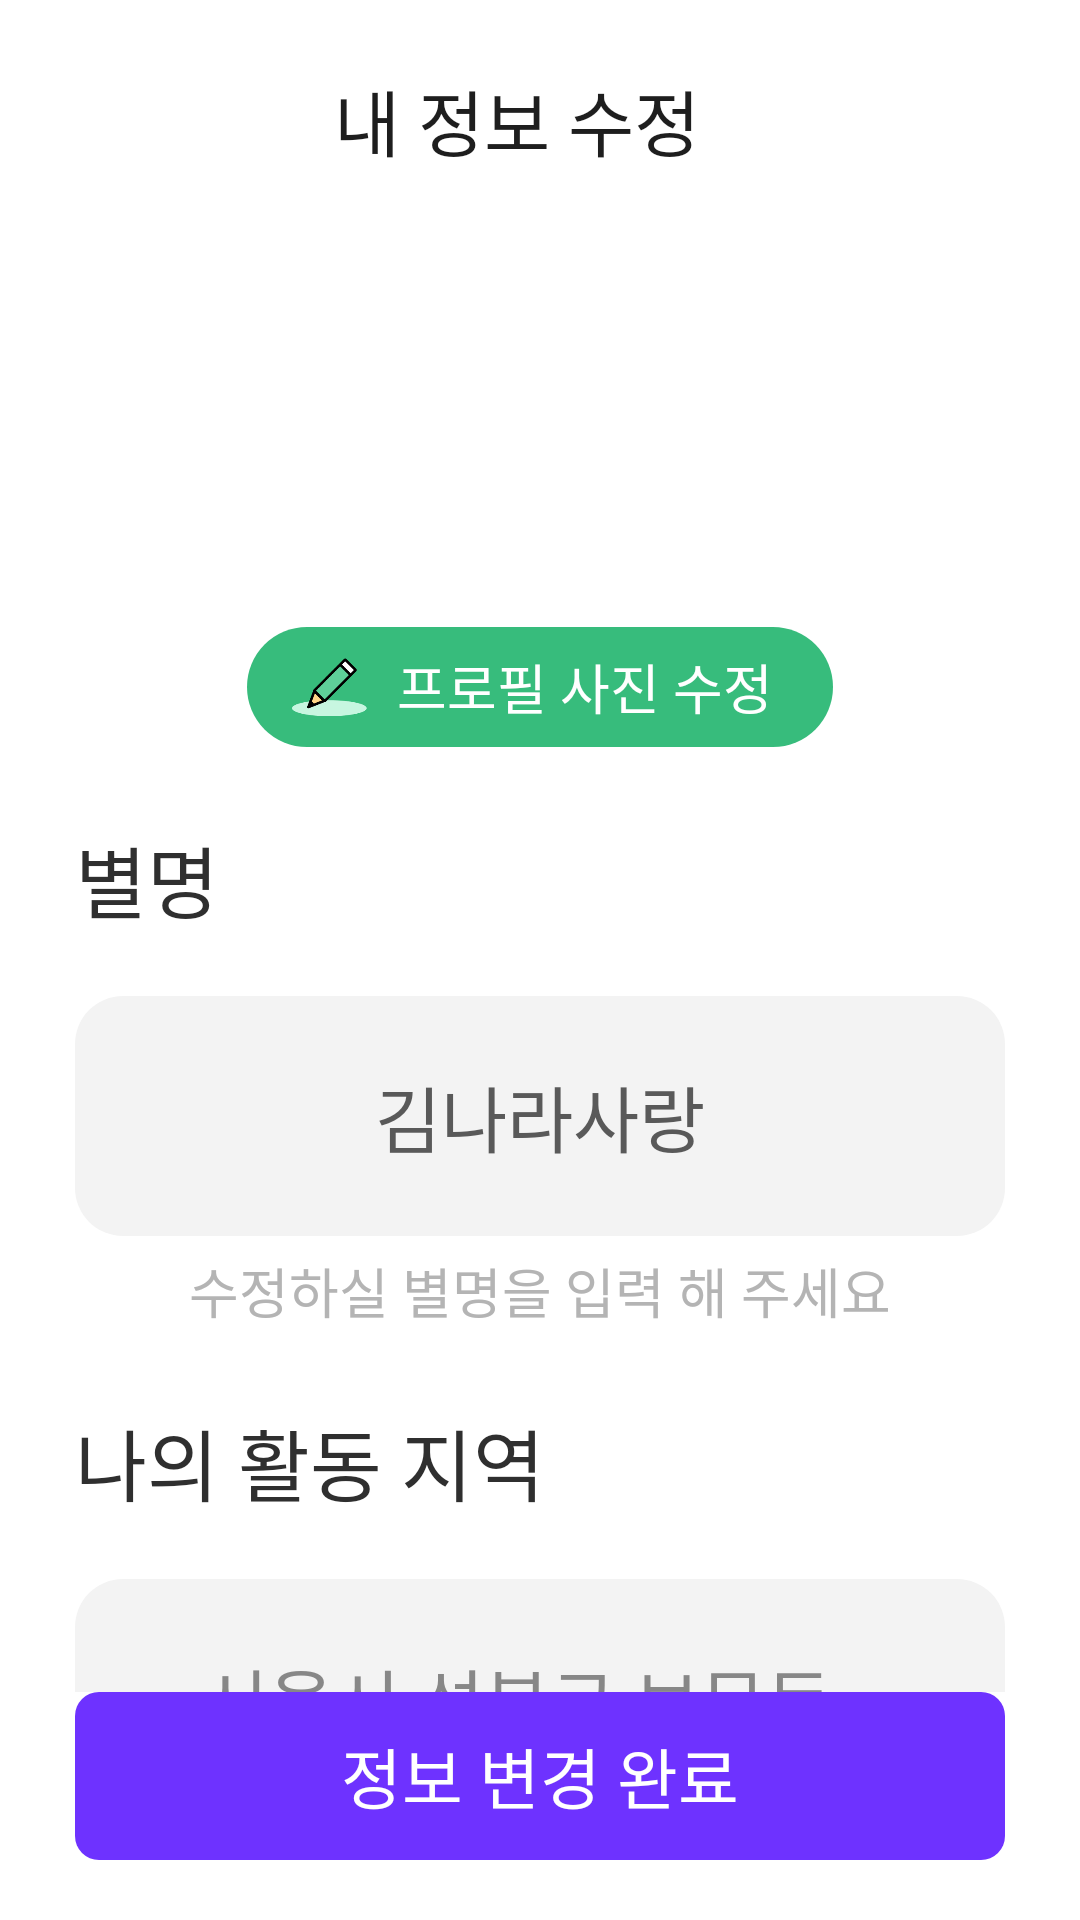

Point at icon controls on the screen. Image size 1080 x 1920, points as (x=x, y=y).
pencil: (x=329, y=687)
